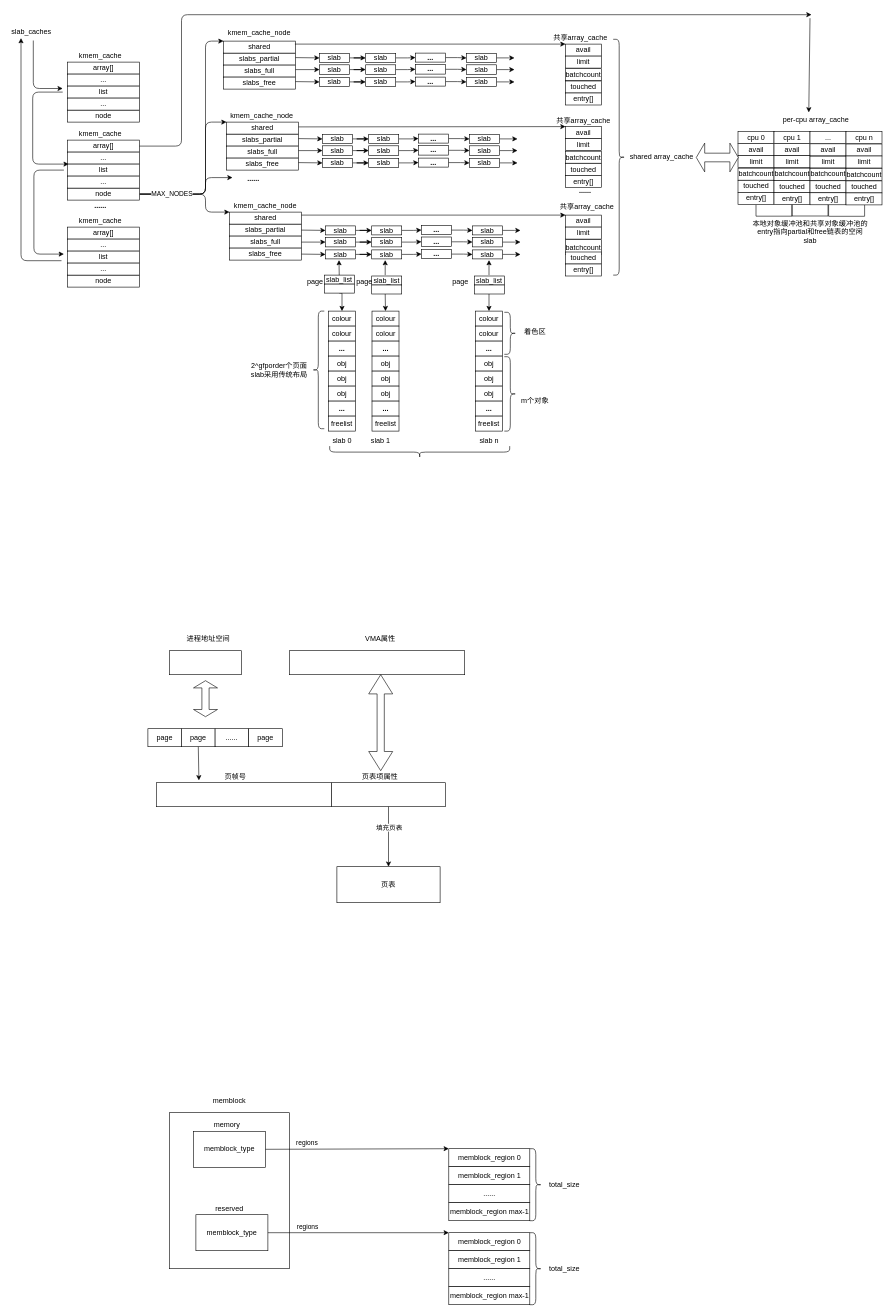
This 892x1315 diagram has some shape labels left out. The shapes that lost their labels are listed below. From the top down, each one's centre as x and y in pixels, then its label:
At point (717, 157): "迁移".
At point (419, 452): "n个slab".
At point (205, 662): "VMA".
At point (377, 662): "VM_READ | VM_WRITE |...".
At point (205, 698): "映射".
At point (380, 722): "vm_get_page_prot() 进行属性转换".
At point (244, 794): "xxx".
At point (388, 794): "PTE_TYPE_PAGE | PTE_AF |...".
